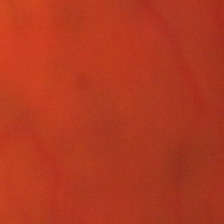MA: (76, 72, 92, 90)
